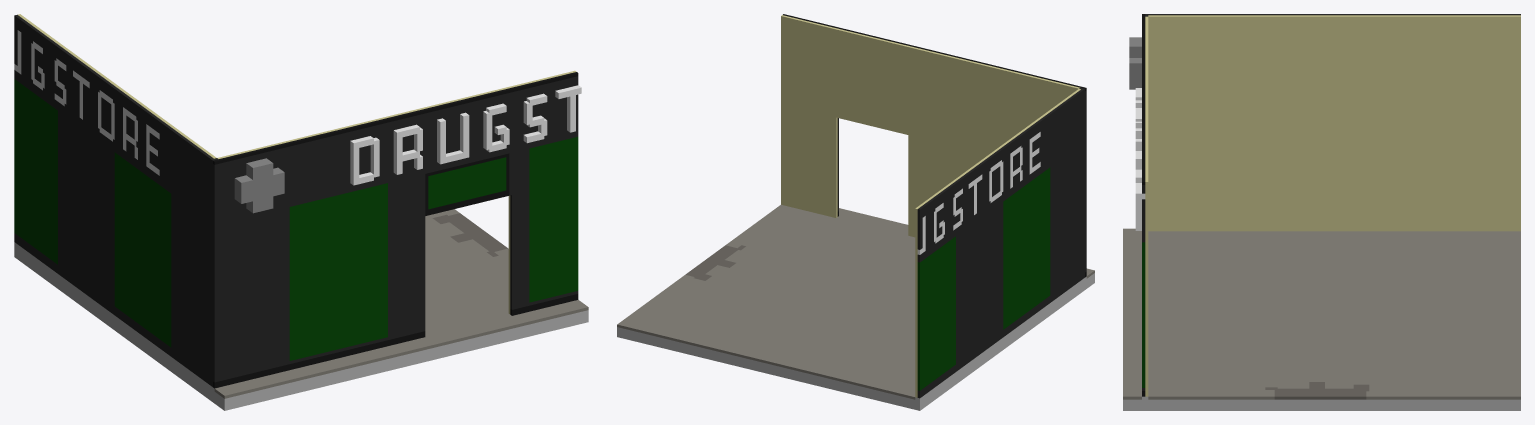
Rendered from 2x2 first (des)-1.obj.
3 views of the same model, side by side, from view 1: azimuth 30°, elevation 25°; view 2: azimuth 150°, elevation 25°; view 3: azimuth 270°, elevation 25° (orthographic). The views are drawn at different scales.
Parts seen in each view (by area): view 1: 2x2 first (des)-1; view 2: 2x2 first (des)-1; view 3: 2x2 first (des)-1.
Boxes of the visible parts, bbox=[...] form: 2x2 first (des)-1: bbox=[14, 14, 588, 410]; 2x2 first (des)-1: bbox=[617, 14, 1094, 410]; 2x2 first (des)-1: bbox=[1123, 14, 1520, 410].
Size of the model in its own units: 126 by 80 by 126.
Materials: 1 (1 with a texture image).
